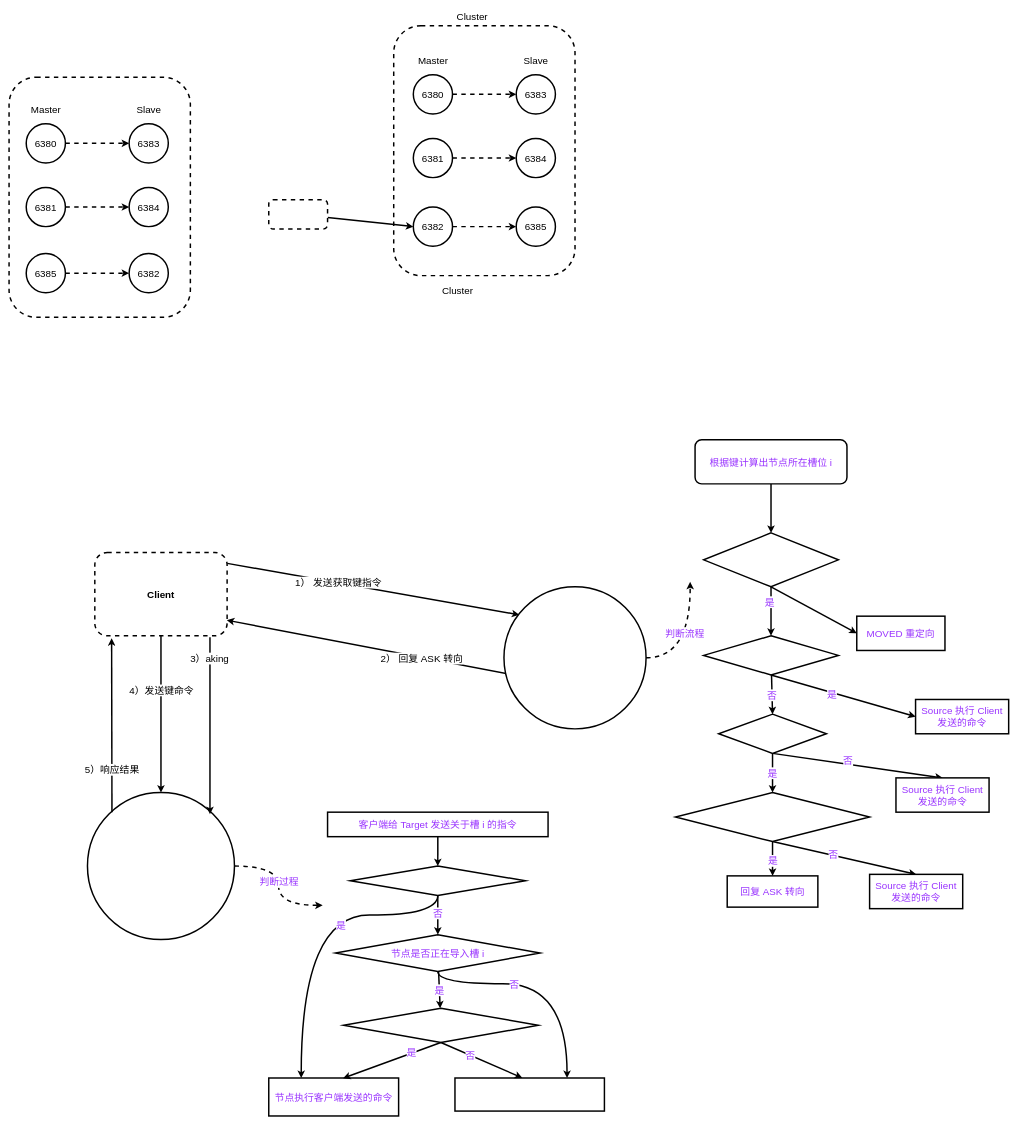
Some shapes in this 1018 by 1125 pixel diagram are drawn without their labels. Each missing label, with the centre of its shape:
kill -9 [pid]: (298,214)
Source: (575,657)
Target: (160,866)
客户端是否带有 Asking 指令: (441,1025)
是否在迁槽: (772,733)
查找migrating_slots_to数组 查看槽是否正在迁出: (772,817)
槽 i 是否指派给了节点？: (437,880)
节点向客户端返回 MOVED 命令: (529,1094)
这个槽位是否由“我”负责: (771,559)
这个键是否存在: (771,655)
